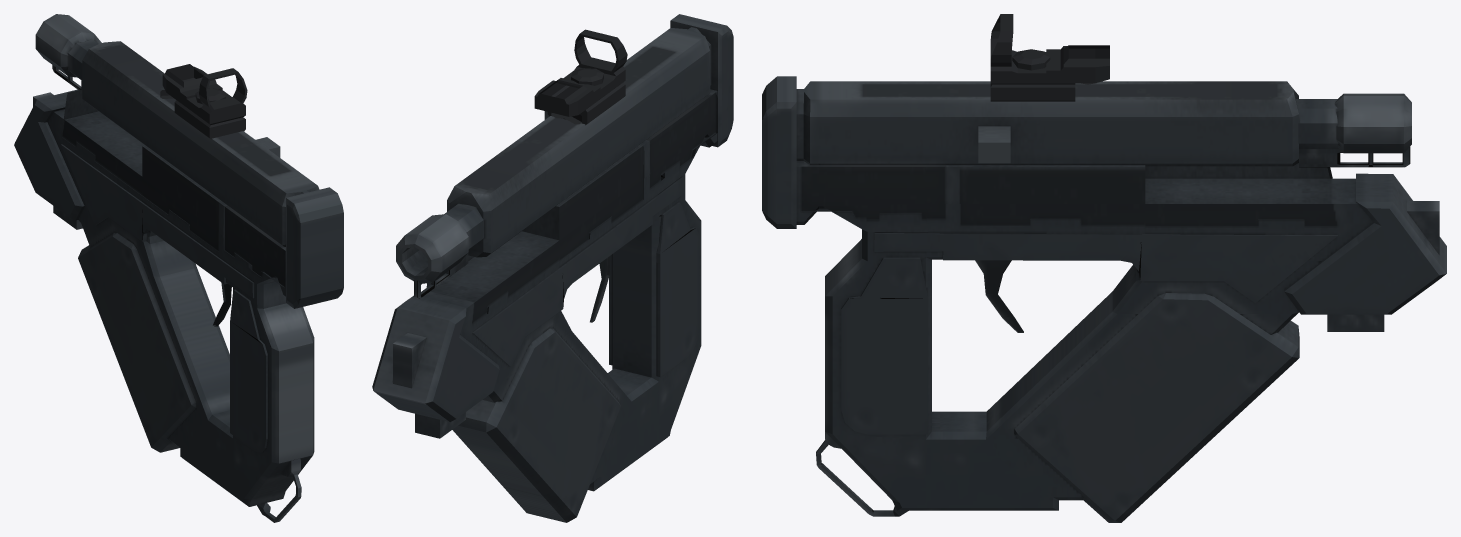
Rendered from smg_t2.glb.
3 renders of one model, left to right at view 1: azimuth 30°, elevation 25°; view 2: azimuth 150°, elevation 25°; view 3: azimuth 270°, elevation 25°, orthographic. The views are drawn at different scales.
Visible parts, largest first — view 1: smg_t2; view 2: smg_t2; view 3: smg_t2, ChargingHandle.
Boxes of the visible parts, x1,y1,x2,y2 form: smg_t2: [14, 14, 343, 522]; smg_t2: [372, 14, 733, 522]; smg_t2: [762, 14, 1446, 522]; ChargingHandle: [978, 126, 1010, 163].
Bounding box in the file's own units: 0.0804 × 0.4156 × 0.5229.
1 material, 1 textured.
